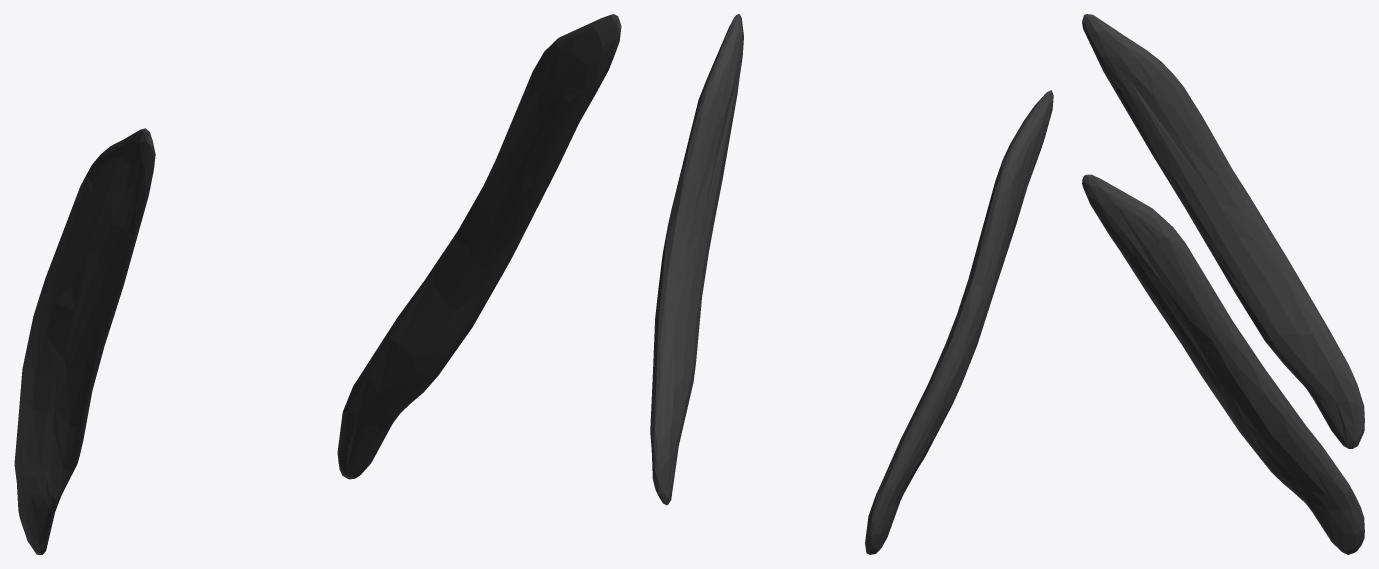
File: m_teres_major.glb
The picture shows the model from 3 angles, left to right: view 1: azimuth 30°, elevation 25°; view 2: azimuth 150°, elevation 25°; view 3: azimuth 270°, elevation 25°; orthographic projection. The views are drawn at different scales.
Visible parts, largest first — view 1: m_teres_major; view 2: m_teres_major; view 3: m_teres_major.
Part boxes in pixels (<box>): m_teres_major: <box>14,14,621,554</box>; m_teres_major: <box>650,14,1053,554</box>; m_teres_major: <box>1082,14,1364,554</box>.
Size of the model in its own units: 0.00344 by 0.00395 by 0.00249.
1 material, 1 textured.
